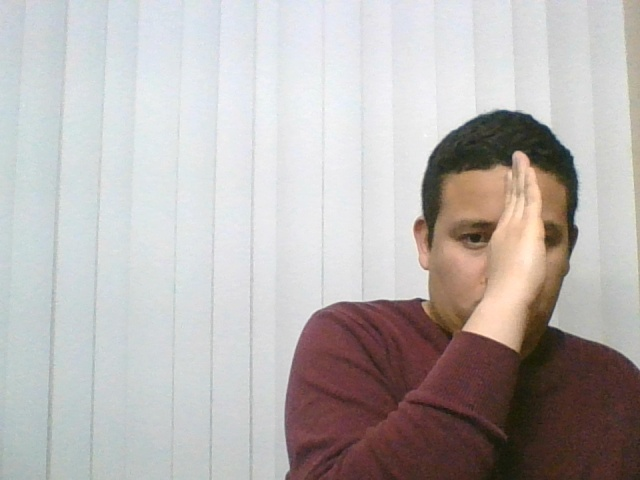God: (402, 135, 622, 376)
